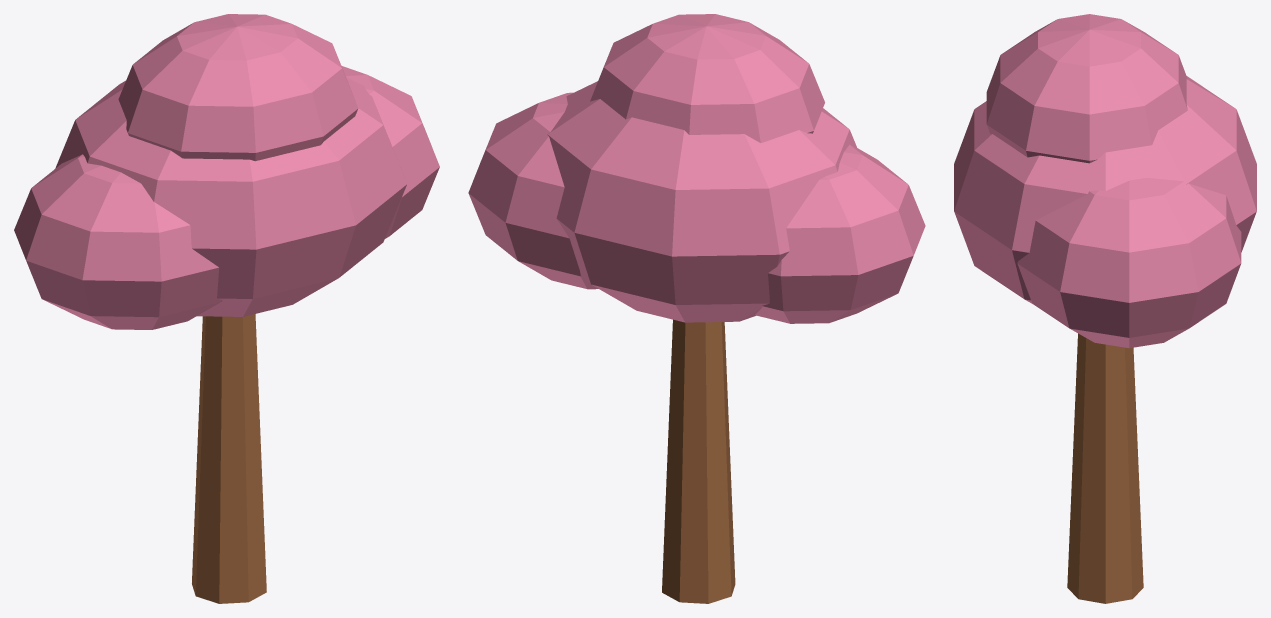
File: tree_flowering.glb
3 views of the same model, side by side, from view 1: azimuth 30°, elevation 25°; view 2: azimuth 150°, elevation 25°; view 3: azimuth 270°, elevation 25° (orthographic). The views are drawn at different scales.
Visible parts, largest first — view 1: pink, wood; view 2: pink, wood; view 3: pink, wood.
Boxes of the visible parts, x1,y1,x2,y2 form: pink: (14,14,439,329); wood: (192,314,266,603); pink: (468,14,925,323); wood: (662,319,735,603); pink: (954,14,1256,348); wood: (1067,333,1143,603).
Bounding box in the file's own units: 3.01 × 3.87 × 1.9.
